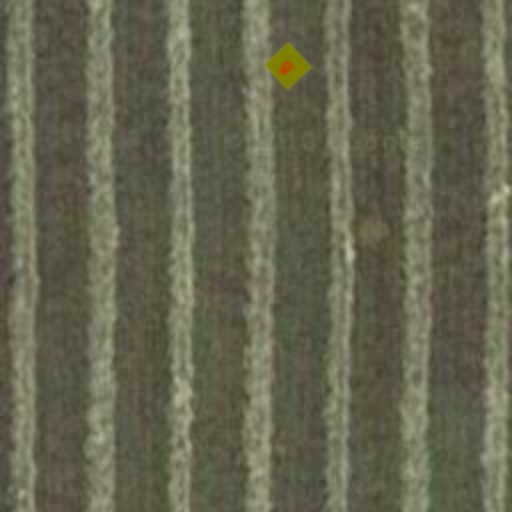rectangle: (262, 40, 314, 92)
